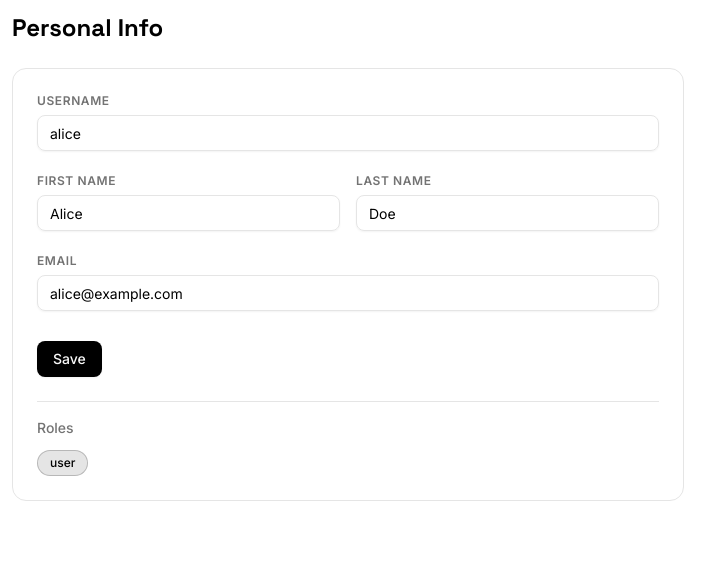
ProfilePage › submits changes and shows a success note
Replace the text in the field labelled "First name" with "Alicia": (188, 213) 37,195 -> 340,231
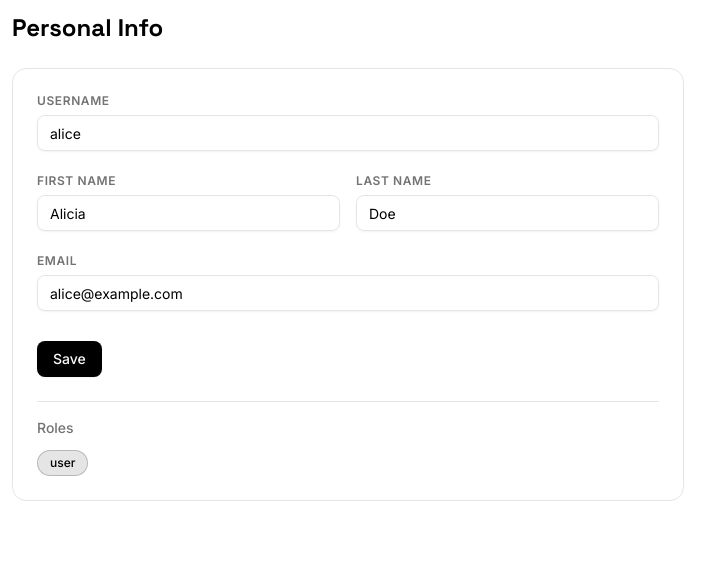
Click the button "Save": (69, 359) 37,341 -> 102,377
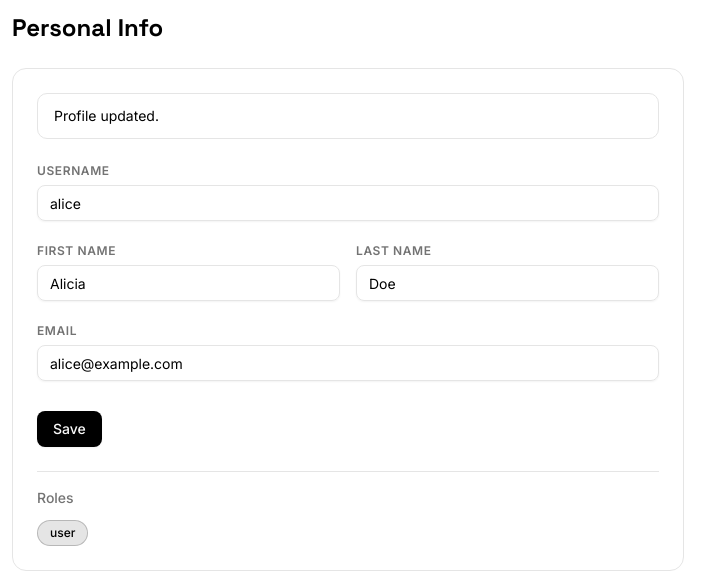
expect the text "Profile updated." is shown: met, box 37,93 -> 659,139
